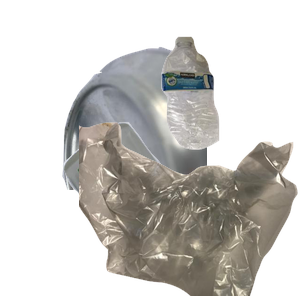glass: (60, 120, 300, 300)
metal: (60, 44, 300, 224)
plastic: (159, 34, 300, 176)
trash: (79, 120, 300, 300)
